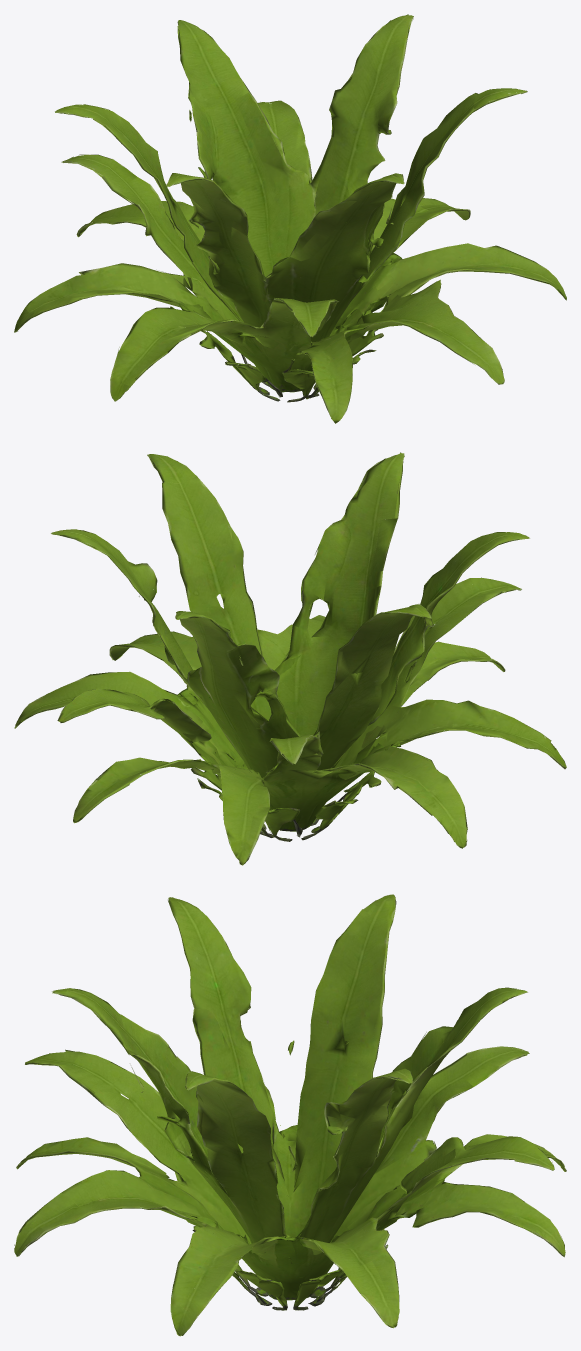
The model's file is java_fern.glb.
3 views of the same model, one above another, from view 1: azimuth 30°, elevation 25°; view 2: azimuth 150°, elevation 25°; view 3: azimuth 270°, elevation 25° (orthographic). The views are drawn at different scales.
Parts seen in each view (by area): view 1: java_fern; view 2: java_fern; view 3: java_fern.
Part boxes in pixels (<box>): java_fern: <box>14,14,566,423</box>; java_fern: <box>14,452,566,865</box>; java_fern: <box>14,894,566,1336</box>.
Bounding box in the file's own units: 1 × 0.6255 × 0.9998.
1 material, 1 textured.
